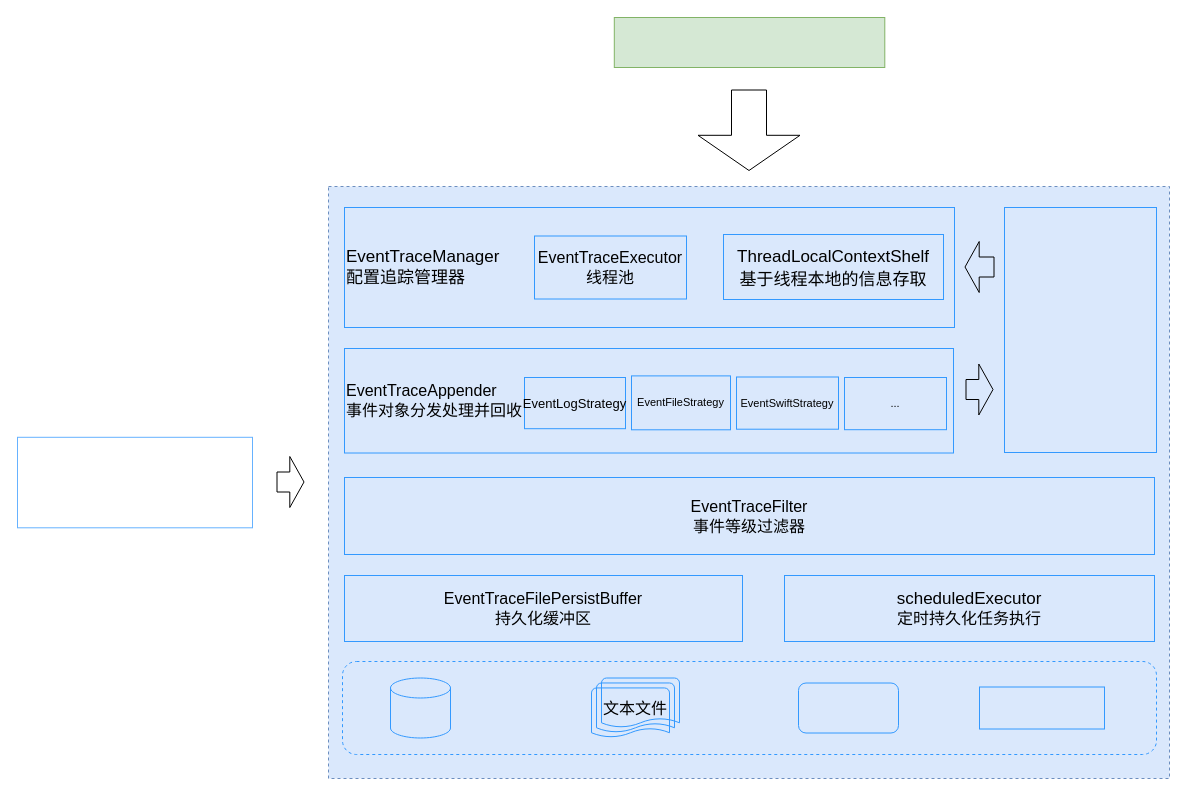
The diagram is 1187 pixels wide and 796 high, and some of its shapes have lost their labels. The centre of each missing label's shape, as x and y in pixels:
"ConfTraceRegisterCenter 配置注册" goes at point 134,482.
"swift" goes at point 420,707.
"TraceEventPool 对象池" goes at point 1080,329.
"业务调用/切面调用" goes at point 749,42.
"日志输出" goes at point 848,707.
"自定义扩展..." goes at point 1041,707.
